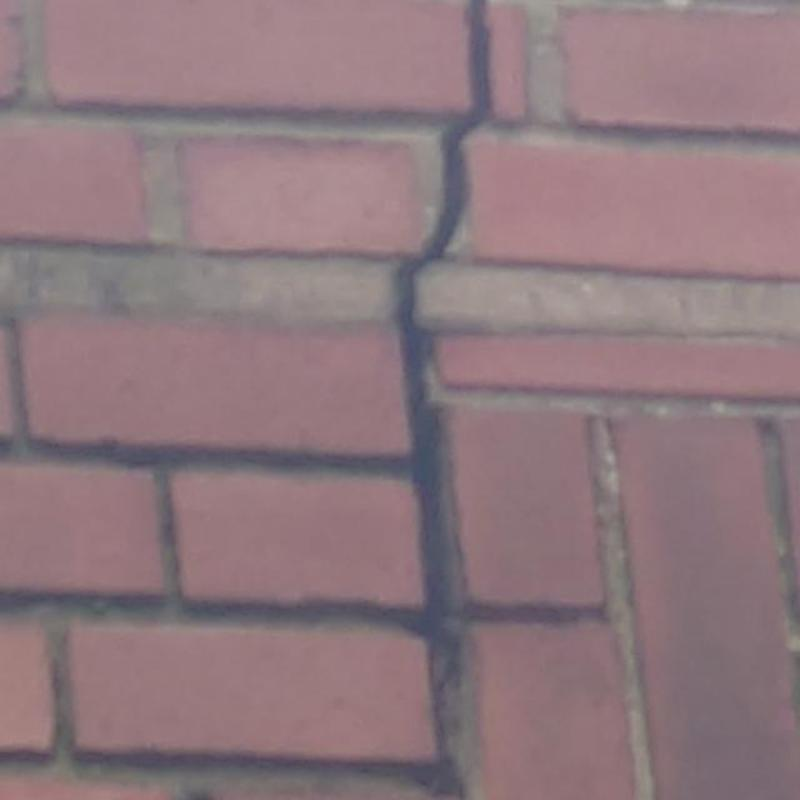pothole: (394, 0, 489, 688), (415, 689, 454, 794)
